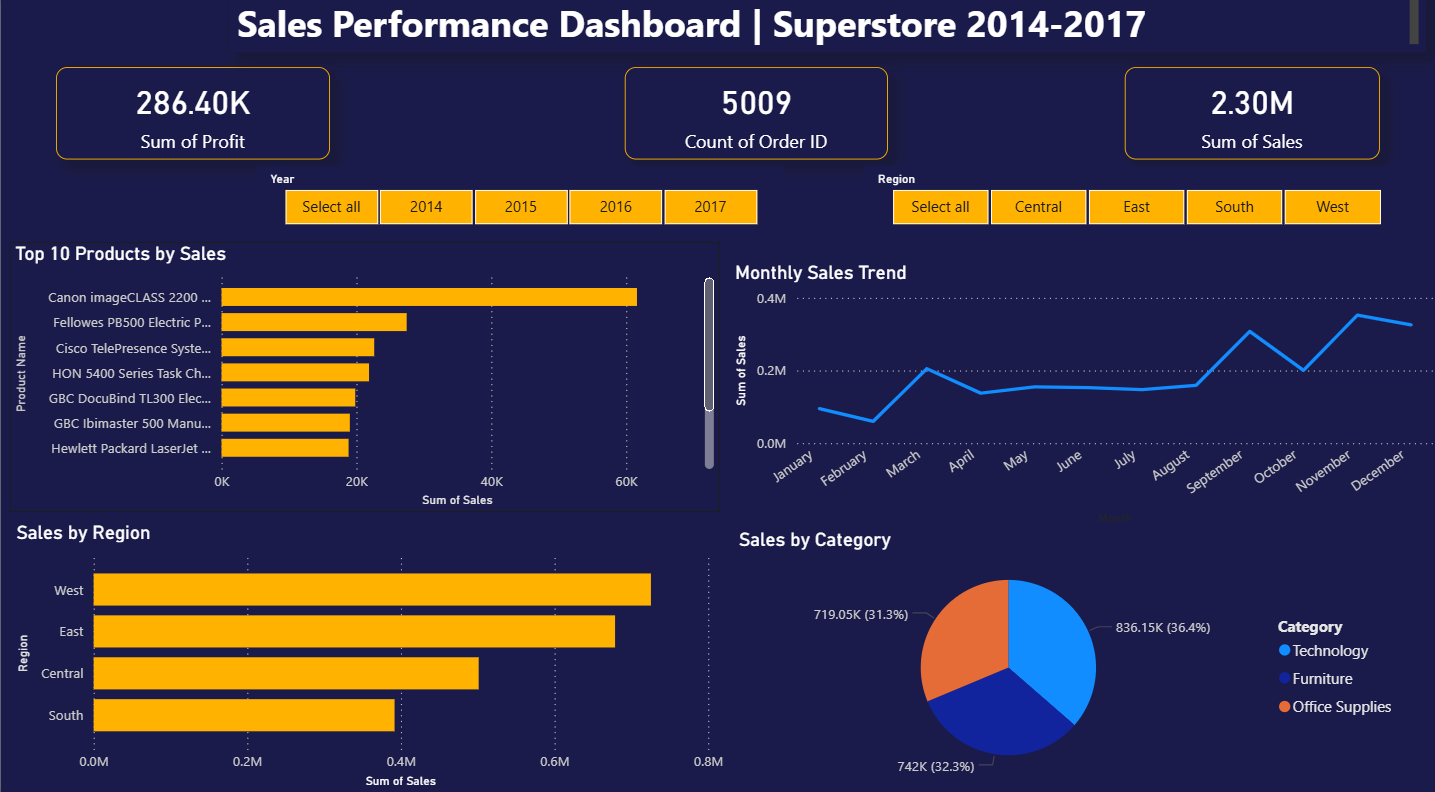

The dashboard page shown, as its layout file describes it:
{"tool":"powerbi","page":{"name":"Page 1","canvas":[1280,720],"ordinal":0},"visuals":[{"type":"card","fields":{"Values":["Sum(Sample - Superstore21.Sales)","select"]},"box":[1001.2,66.3,227,82.2],"z":0},{"type":"card","fields":{"Values":["Sum(Sample - Superstore21.Profit)"]},"box":[49.1,66.3,244.2,82.2],"z":1000},{"type":"card","fields":{"Values":["Count(Sample - Superstore21.Order ID)"]},"box":[555.8,66.3,234.4,82.2],"z":2000},{"type":"clusteredBarChart","title":"Sales by Region","fields":{"Category":["Sample - Superstore21.Region"],"Y":["Sum(Sample - Superstore21.Sales)"]},"box":[8.9,470.9,640.1,242.7],"z":3000},{"type":"lineChart","title":"Monthly Sales Trend","fields":{"Category":["Sample - Superstore21.Order Date.Variation.Date Hierarchy.Month"],"Y":["Sum(Sample - Superstore21.Sales)"]},"box":[649,239.3,631.2,240.4],"z":4000},{"type":"pieChart","title":"Sales by Category","fields":{"Category":["Sample - Superstore21.Category"],"Y":["Sum(Sample - Superstore21.Sales)"]},"box":[652.3,477.6,600,229.3],"z":5000},{"type":"clusteredBarChart","title":"Top 10 Products by Sales","fields":{"Category":["Sample - Superstore21.Product Name"],"Y":["Sum(Sample - Superstore21.Sales)"]},"box":[7.8,222.2,632.2,241.1],"z":6000},{"type":"textbox","box":[204.9,0,1066.3,54],"z":7000},{"type":"slicer","fields":{"Values":["Sample - Superstore21.Region"]},"box":[767.8,154.4,484.4,58.9],"z":8000},{"type":"slicer","fields":{"Values":["Sample - Superstore21.Order Date.Variation.Date Hierarchy.Year"]},"box":[226.7,154.4,470,58.9],"z":9000}]}

Visuals, with their boxes in screenshot pixels (x1, y1, x2, y2), scaled from the page's 1280x720 canvas onto the 1435x792 screenshot:
card - Sum(Sample - Superstore21.Sales) x select: 1122,73,1377,163
card - Sum(Sample - Superstore21.Profit): 55,73,329,163
card - Count(Sample - Superstore21.Order ID): 623,73,886,163
"Sales by Region" clusteredBarChart: 10,518,728,785
"Monthly Sales Trend" lineChart: 728,263,1434,528
"Sales by Category" pieChart: 731,525,1404,778
"Top 10 Products by Sales" clusteredBarChart: 9,244,718,510
textbox: 230,0,1425,59
slicer - Sample - Superstore21.Region: 861,170,1404,235
slicer - Sample - Superstore21.Order Date.Variation.Date Hierarchy.Year: 254,170,781,235
